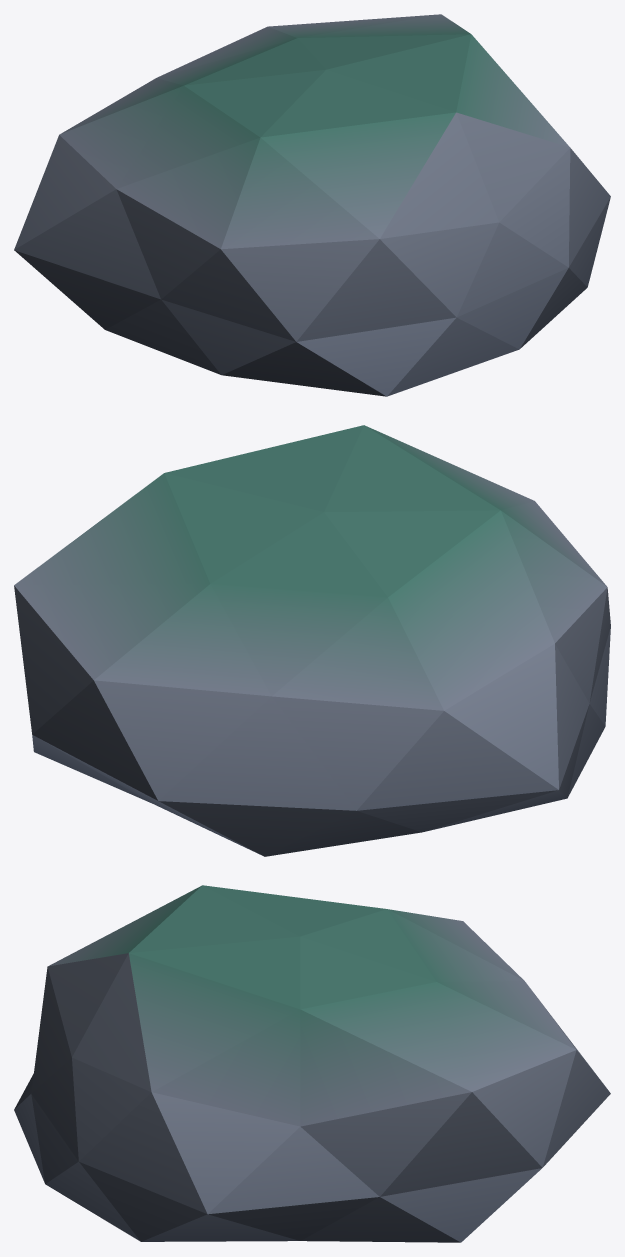
File: rock-small.glb
3 views of the same model, one above another, from view 1: azimuth 30°, elevation 25°; view 2: azimuth 150°, elevation 25°; view 3: azimuth 270°, elevation 25° (orthographic). The views are drawn at different scales.
Visible parts, largest first — view 1: rock-small; view 2: rock-small; view 3: rock-small.
Boxes of the visible parts, <box> form: rock-small: <box>14,14,610,396</box>; rock-small: <box>14,425,610,856</box>; rock-small: <box>14,885,610,1242</box>.
Bounding box in the file's own units: 1.95 × 0.79 × 1.95.
